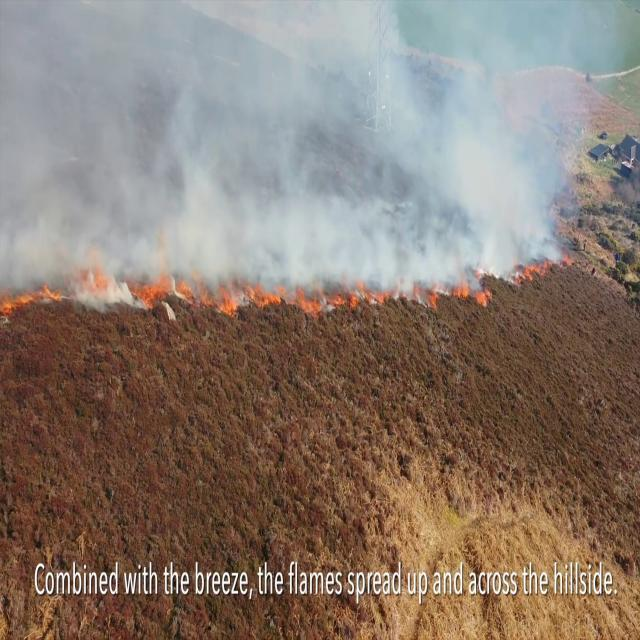Fire: (221, 270, 296, 319), (398, 263, 468, 311), (300, 265, 357, 311), (162, 276, 219, 312), (132, 277, 160, 313)
Smoke: (1, 1, 575, 259)
